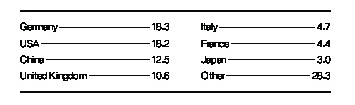table: (0, 0, 355, 105)
